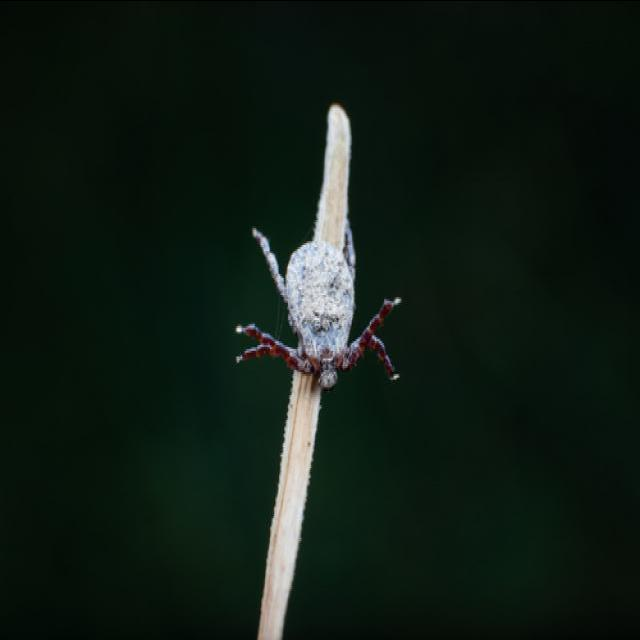Dermacentor Reticulatus-M: (252, 219, 401, 388)
